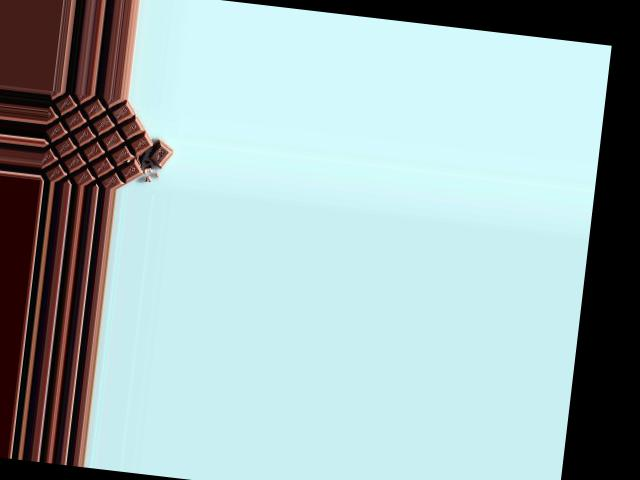chocolate: (39, 93, 165, 192)
